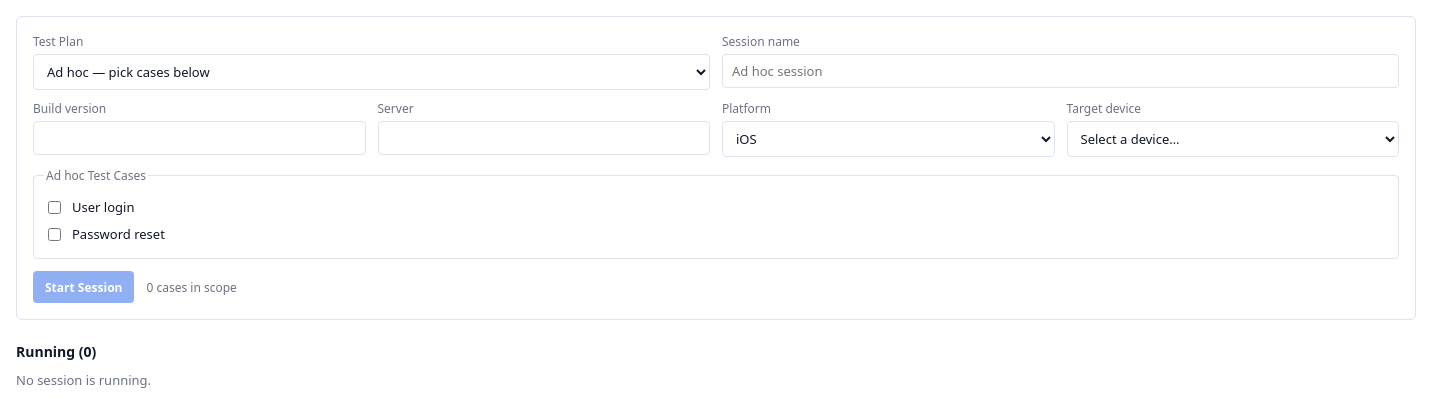
an ad hoc run selects cases directly and a plan replaces that scope
This screenshot has width=1433, height=405.
Click the checkbox labelled "Password reset". click: click(54, 234)
box: x1=48 y1=228 x2=61 y2=241
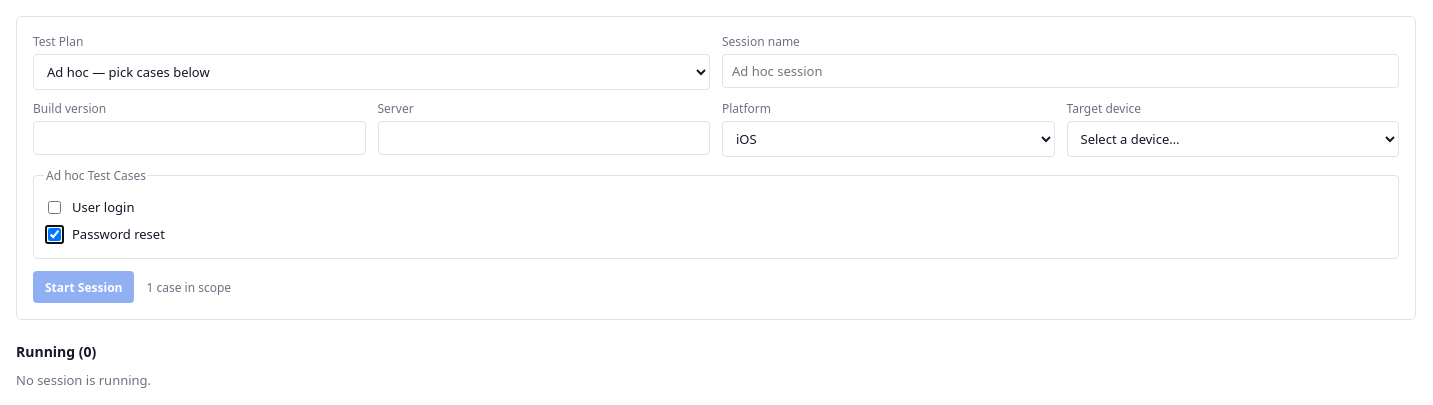
Type "2.4.1" into the field labelled "Build version". click: (199, 138)
box: x1=33 y1=121 x2=366 y2=155
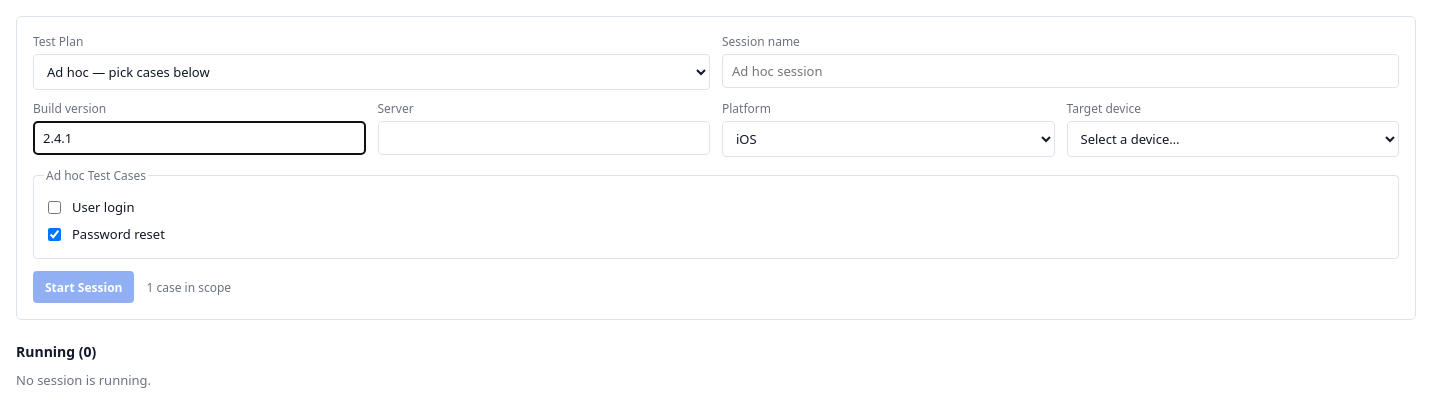
Type "staging" into the field labelled "Server". click: (544, 138)
box: x1=378 y1=121 x2=710 y2=155
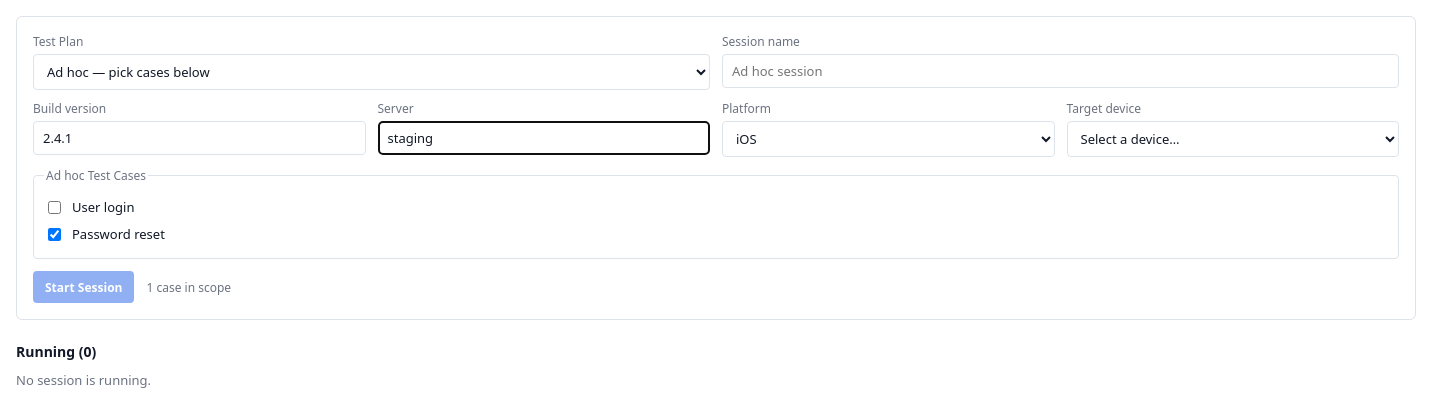
Select "Pixel 8" in the dropdown labelled "Target device". click: (1233, 139)
box: x1=1066 y1=121 x2=1399 y2=157
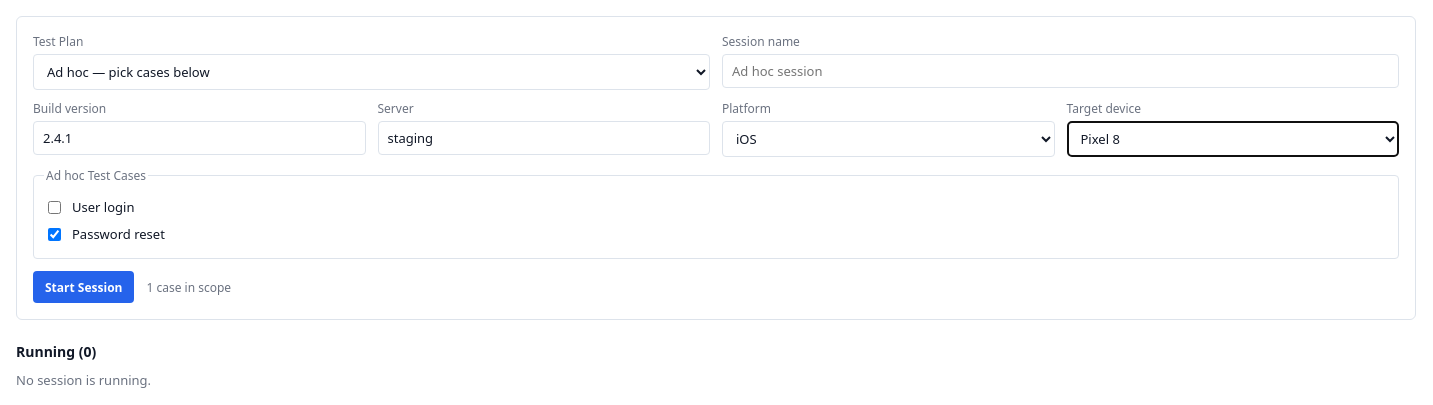
expect the text "1 case in scope" is shown: met, box x1=146 y1=278 x2=231 y2=296
Click the button "Start Session". click: click(84, 287)
box: x1=33 y1=271 x2=134 y2=303
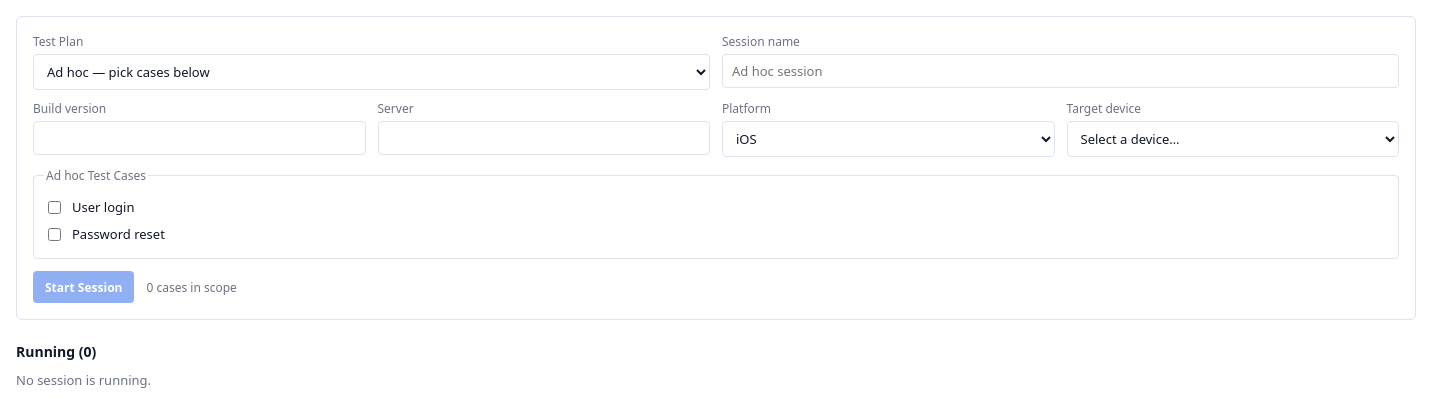
Picking a plan hides the ad hoc checkboxes, so the two can never disagree about the scope.
Select "Regression (1)" in the dropdown labelled "Test Plan". click: (372, 72)
box: x1=33 y1=54 x2=710 y2=90
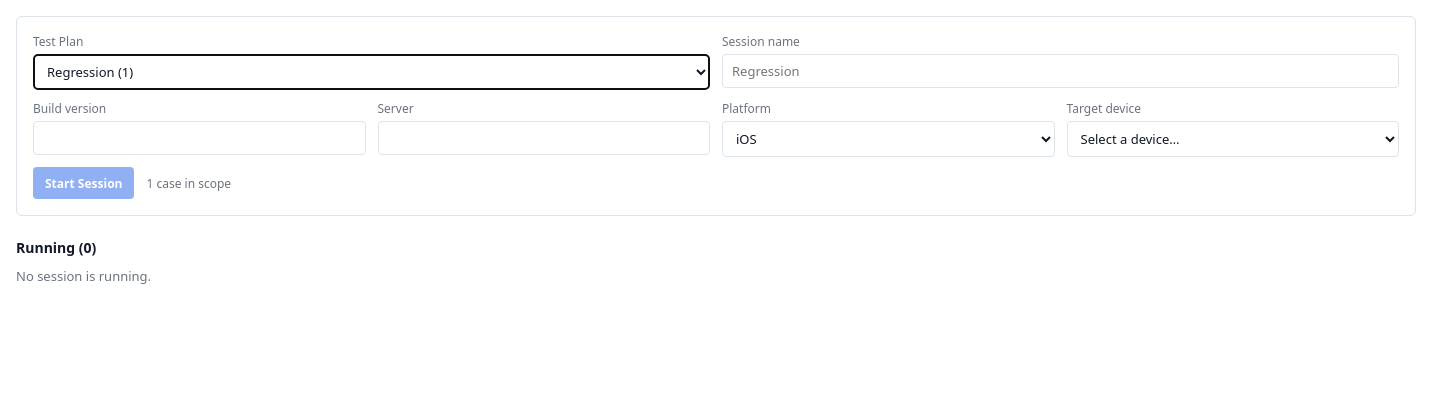
expect the label "Password reset" is gone: met
